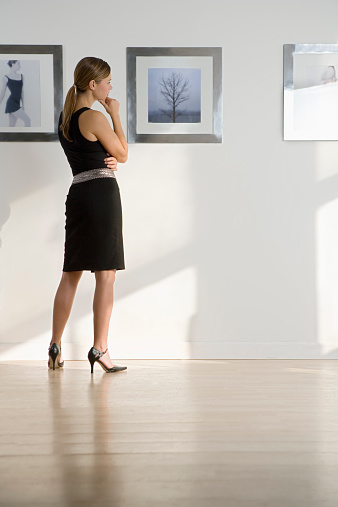em pe: (48, 39, 127, 366)
